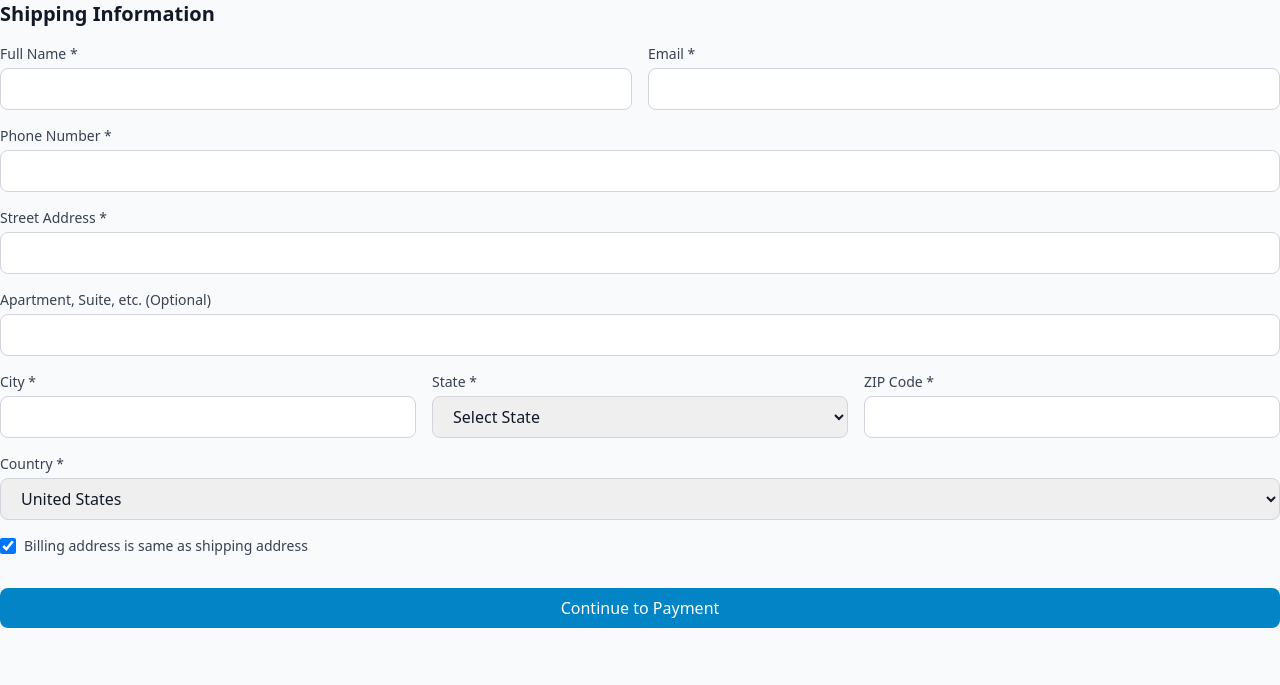
Test: ShippingForm checkout component › CT07: CheckoutForm validation
Click the button with test id "continue-to-payment". click: (640, 608)
box: [0,588,1279,628]
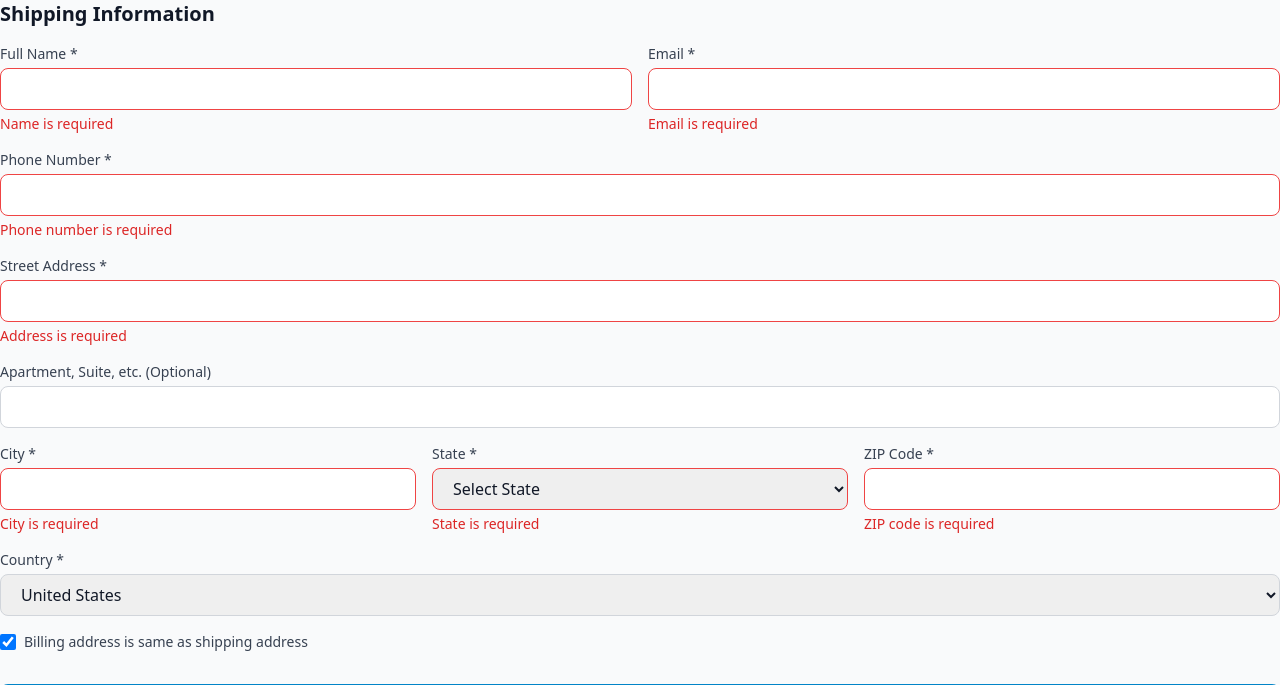
Expected: the number of elements with test id "validation-error" is more than 0
